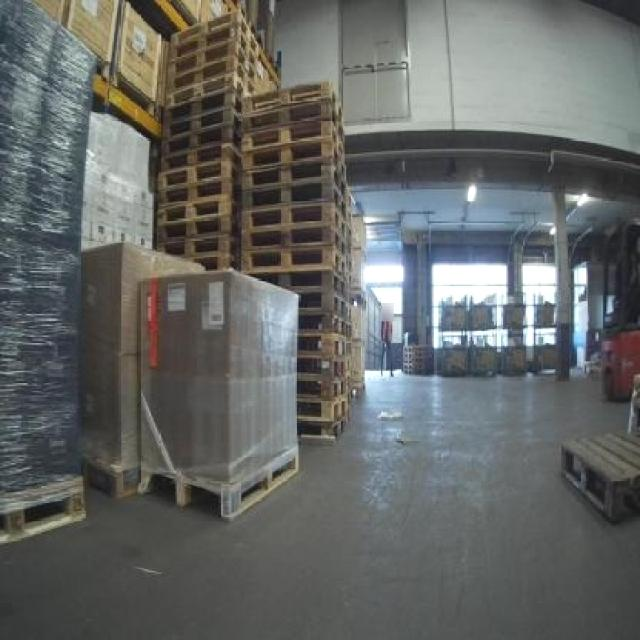floor: (0, 371, 637, 637)
pallets: (137, 269, 295, 515), (80, 242, 200, 494), (560, 432, 637, 517)
